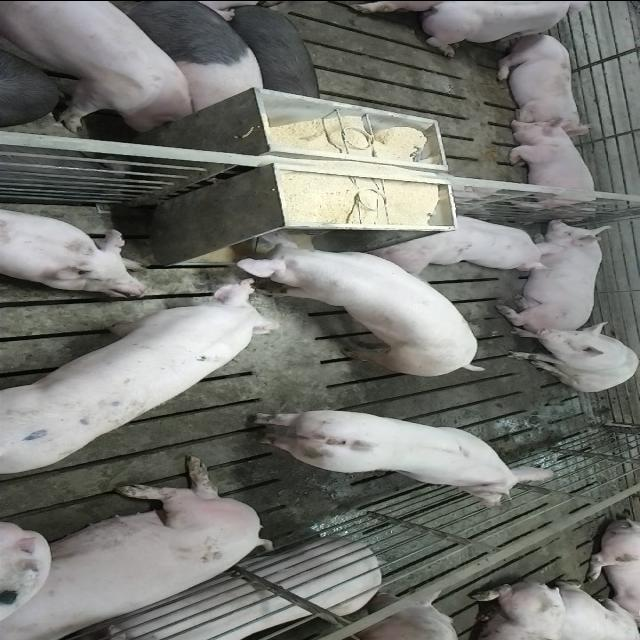Lateral_lying: (4, 453, 278, 636), (95, 537, 383, 640)
Sitting: (503, 323, 637, 391)
Standing: (5, 273, 285, 477), (227, 232, 480, 378), (242, 406, 556, 506), (0, 2, 199, 134), (105, 2, 266, 116), (226, 8, 322, 102)
Sternal_lying: (0, 202, 151, 294), (502, 219, 612, 328), (368, 210, 555, 270), (418, 3, 604, 57), (502, 116, 602, 215), (491, 31, 588, 130)
